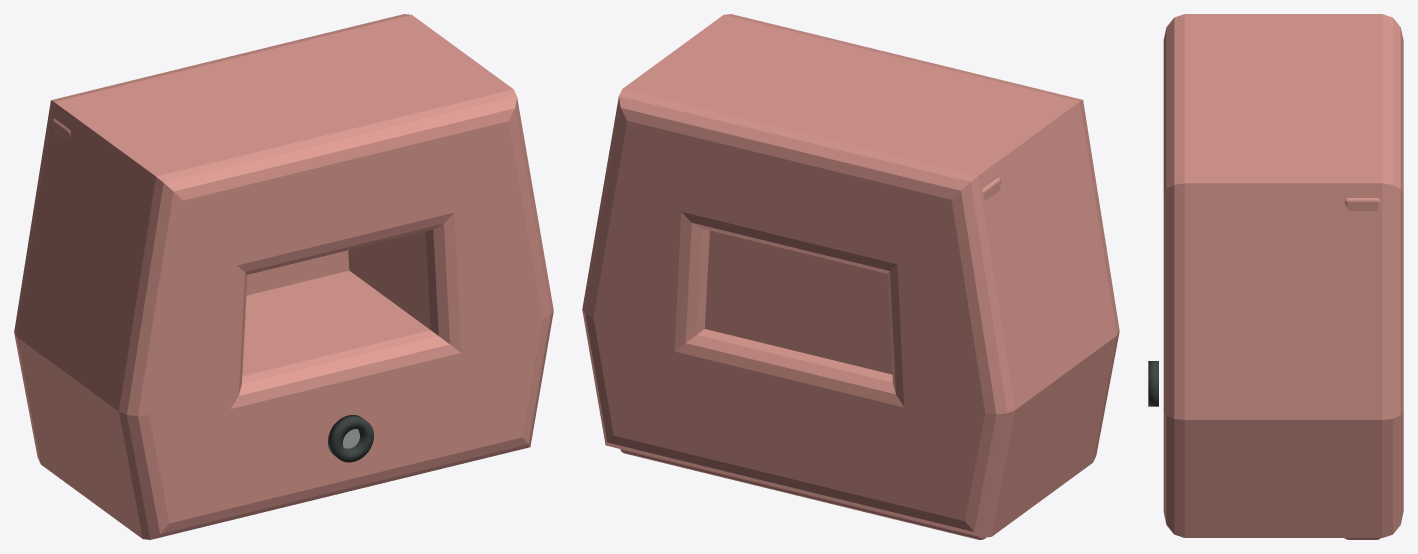
File: indoor-climbing-and-bouldering-gym-indoor-climbing-and-6dfbd94f__31525.glb
3 renders of one model, left to right at view 1: azimuth 30°, elevation 25°; view 2: azimuth 150°, elevation 25°; view 3: azimuth 270°, elevation 25°, orthographic. The views are drawn at different scales.
Visible parts, largest first — view 1: indoor-climbing-and-bouldering-gym-deep-jug-hold; view 2: indoor-climbing-and-bouldering-gym-deep-jug-hold; view 3: indoor-climbing-and-bouldering-gym-deep-jug-hold.
Part boxes in pixels (x1,y1,x2,y2): indoor-climbing-and-bouldering-gym-deep-jug-hold: (14, 14, 553, 539); indoor-climbing-and-bouldering-gym-deep-jug-hold: (582, 14, 1119, 539); indoor-climbing-and-bouldering-gym-deep-jug-hold: (1148, 14, 1403, 539).
Size of the model in its own units: 0.3184 by 0.259 by 0.168.
